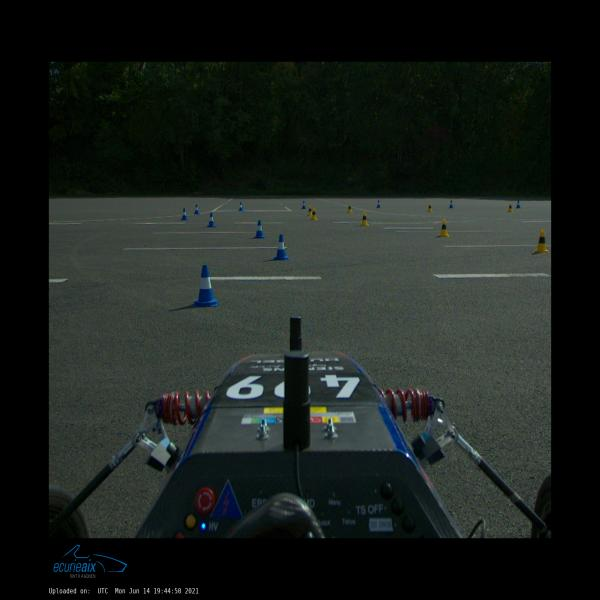blue_cone: (194, 265, 218, 307), (272, 235, 290, 260), (254, 220, 265, 239), (207, 213, 216, 227), (181, 208, 188, 220), (193, 204, 200, 215), (449, 200, 454, 208), (376, 200, 381, 208), (301, 201, 306, 209), (516, 200, 520, 209), (239, 202, 243, 211)
yellow_cone: (533, 230, 549, 254), (438, 219, 450, 237), (360, 212, 369, 226), (311, 208, 318, 220), (346, 203, 353, 213), (307, 205, 312, 216), (508, 203, 514, 212), (427, 203, 433, 212)
